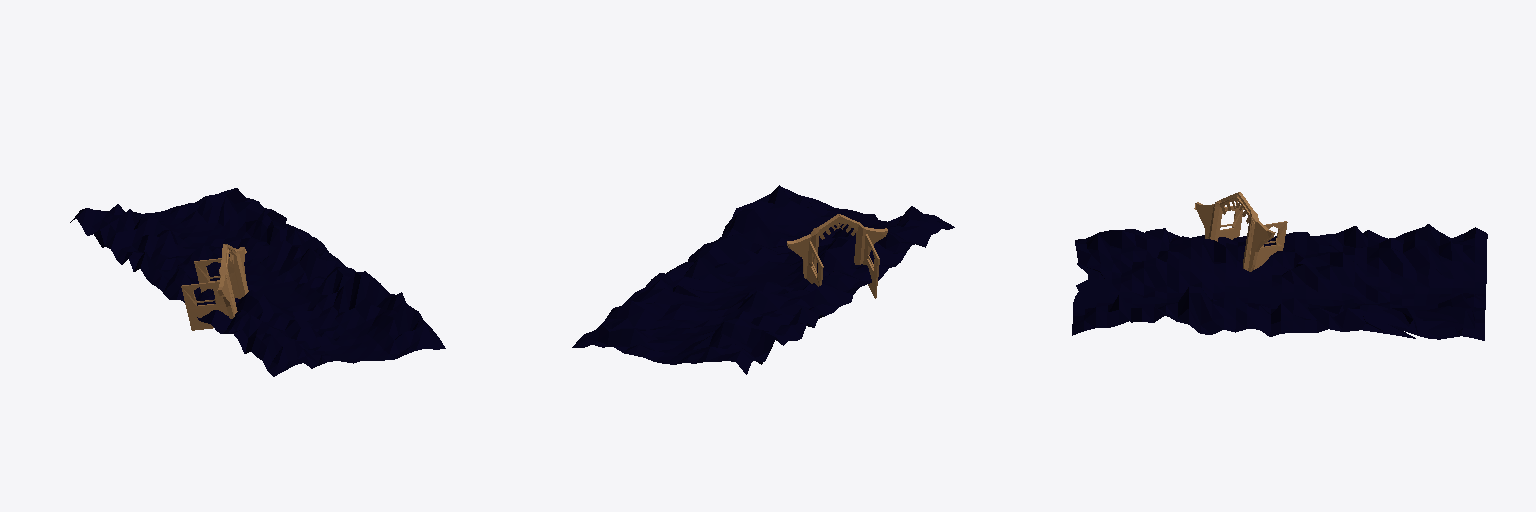
File: ground.obj
3 views of the same model, side by side, from view 1: azimuth 30°, elevation 25°; view 2: azimuth 150°, elevation 25°; view 3: azimuth 270°, elevation 25° (orthographic).
Parts seen in each view (by area): view 1: Grid, Cylinder.001; view 2: Grid, Cylinder.001; view 3: Grid, Cylinder.001.
Boxes of the visible parts, <box> form: Grid: <box>70,188,445,376</box>; Cylinder.001: <box>181,244,248,330</box>; Grid: <box>572,185,954,374</box>; Cylinder.001: <box>787,214,887,298</box>; Grid: <box>1072,224,1487,340</box>; Cylinder.001: <box>1194,192,1287,271</box>.
Size of the model in its own units: 5.25 by 2.12 by 10.11.